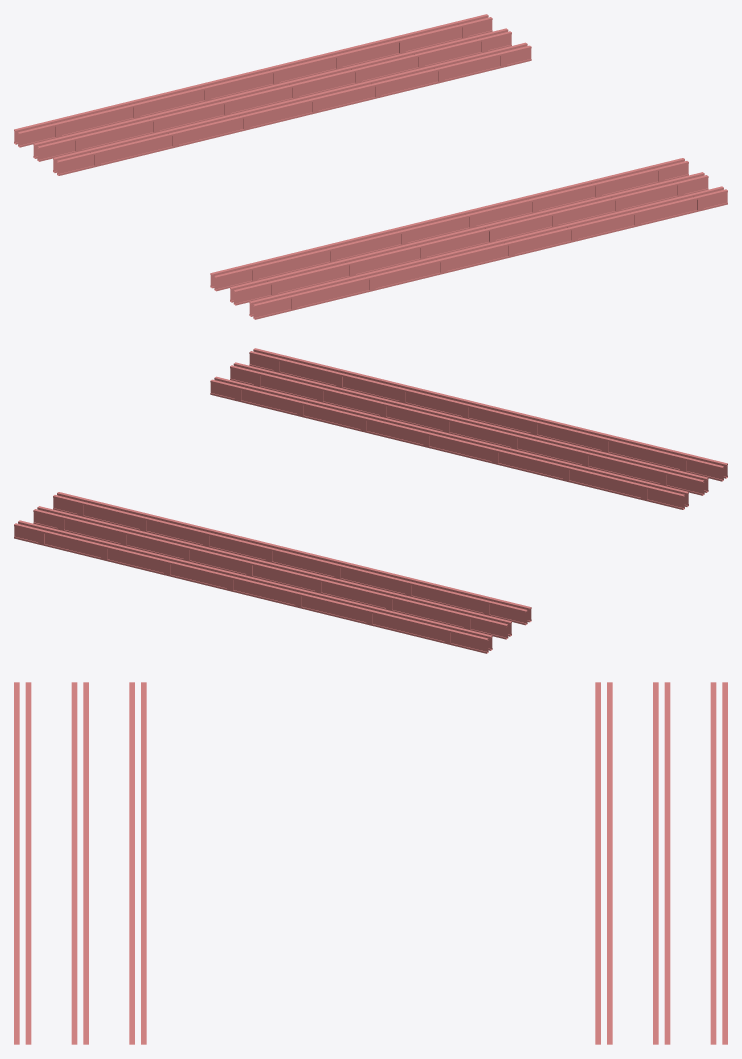
The model's file is Generator_Beam_Horizantal.fbx.
3 views of the same model, one above another, from view 1: azimuth 30°, elevation 25°; view 2: azimuth 150°, elevation 25°; view 3: azimuth 270°, elevation 25° (orthographic). The views are drawn at different scales.
Parts seen in each view (by area): view 1: Generator_Beam_Horizontal; view 2: Generator_Beam_Horizontal; view 3: Generator_Beam_Horizontal.
Part boxes in pixels (left/top/right/bottom): Generator_Beam_Horizontal: left=14, top=14, right=727, bottom=319; Generator_Beam_Horizontal: left=14, top=348, right=727, bottom=653; Generator_Beam_Horizontal: left=14, top=682, right=727, bottom=1044.
Size of the model in its own units: 1439 by 40.57 by 1271.
